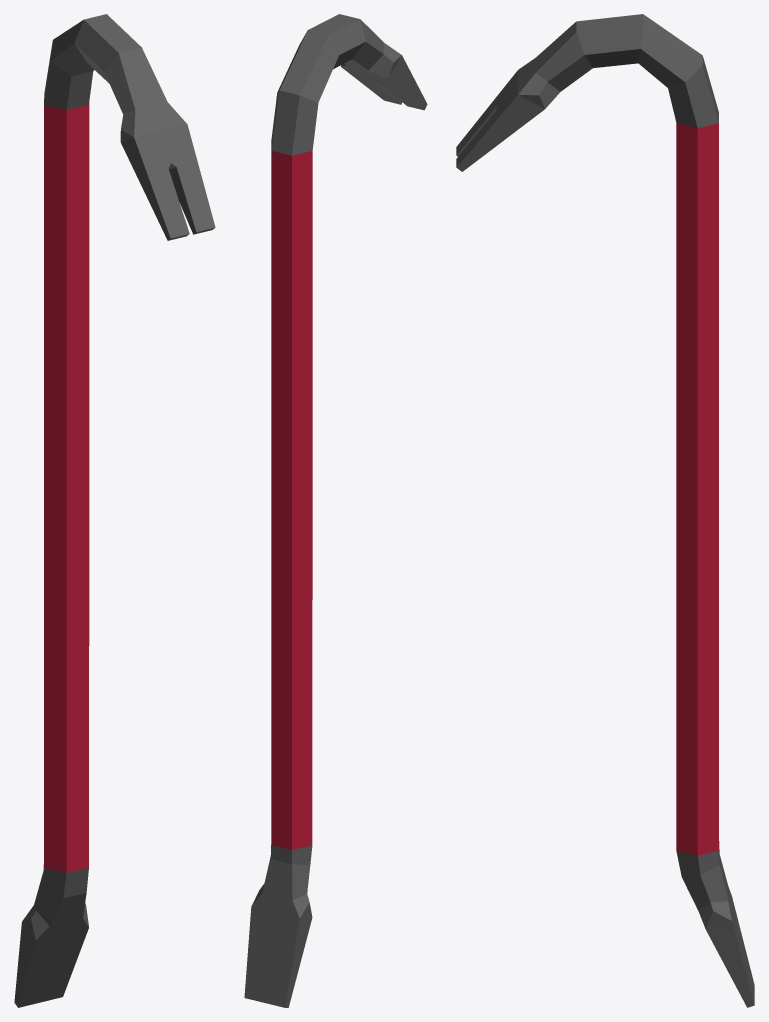
File: Crowbar.fbx
3 views of the same model, side by side, from view 1: azimuth 30°, elevation 25°; view 2: azimuth 150°, elevation 25°; view 3: azimuth 270°, elevation 25° (orthographic). The views are drawn at different scales.
Parts seen in each view (by area): view 1: Crowbar_LOD0; view 2: Crowbar_LOD0; view 3: Crowbar_LOD0.
Boxes of the visible parts, <box> form: Crowbar_LOD0: <box>14,14,215,1007</box>; Crowbar_LOD0: <box>244,14,427,1007</box>; Crowbar_LOD0: <box>456,14,754,1007</box>.
Size of the model in its own units: 3.53 by 60.12 by 16.6.
Materials: 1 (1 with a texture image).
